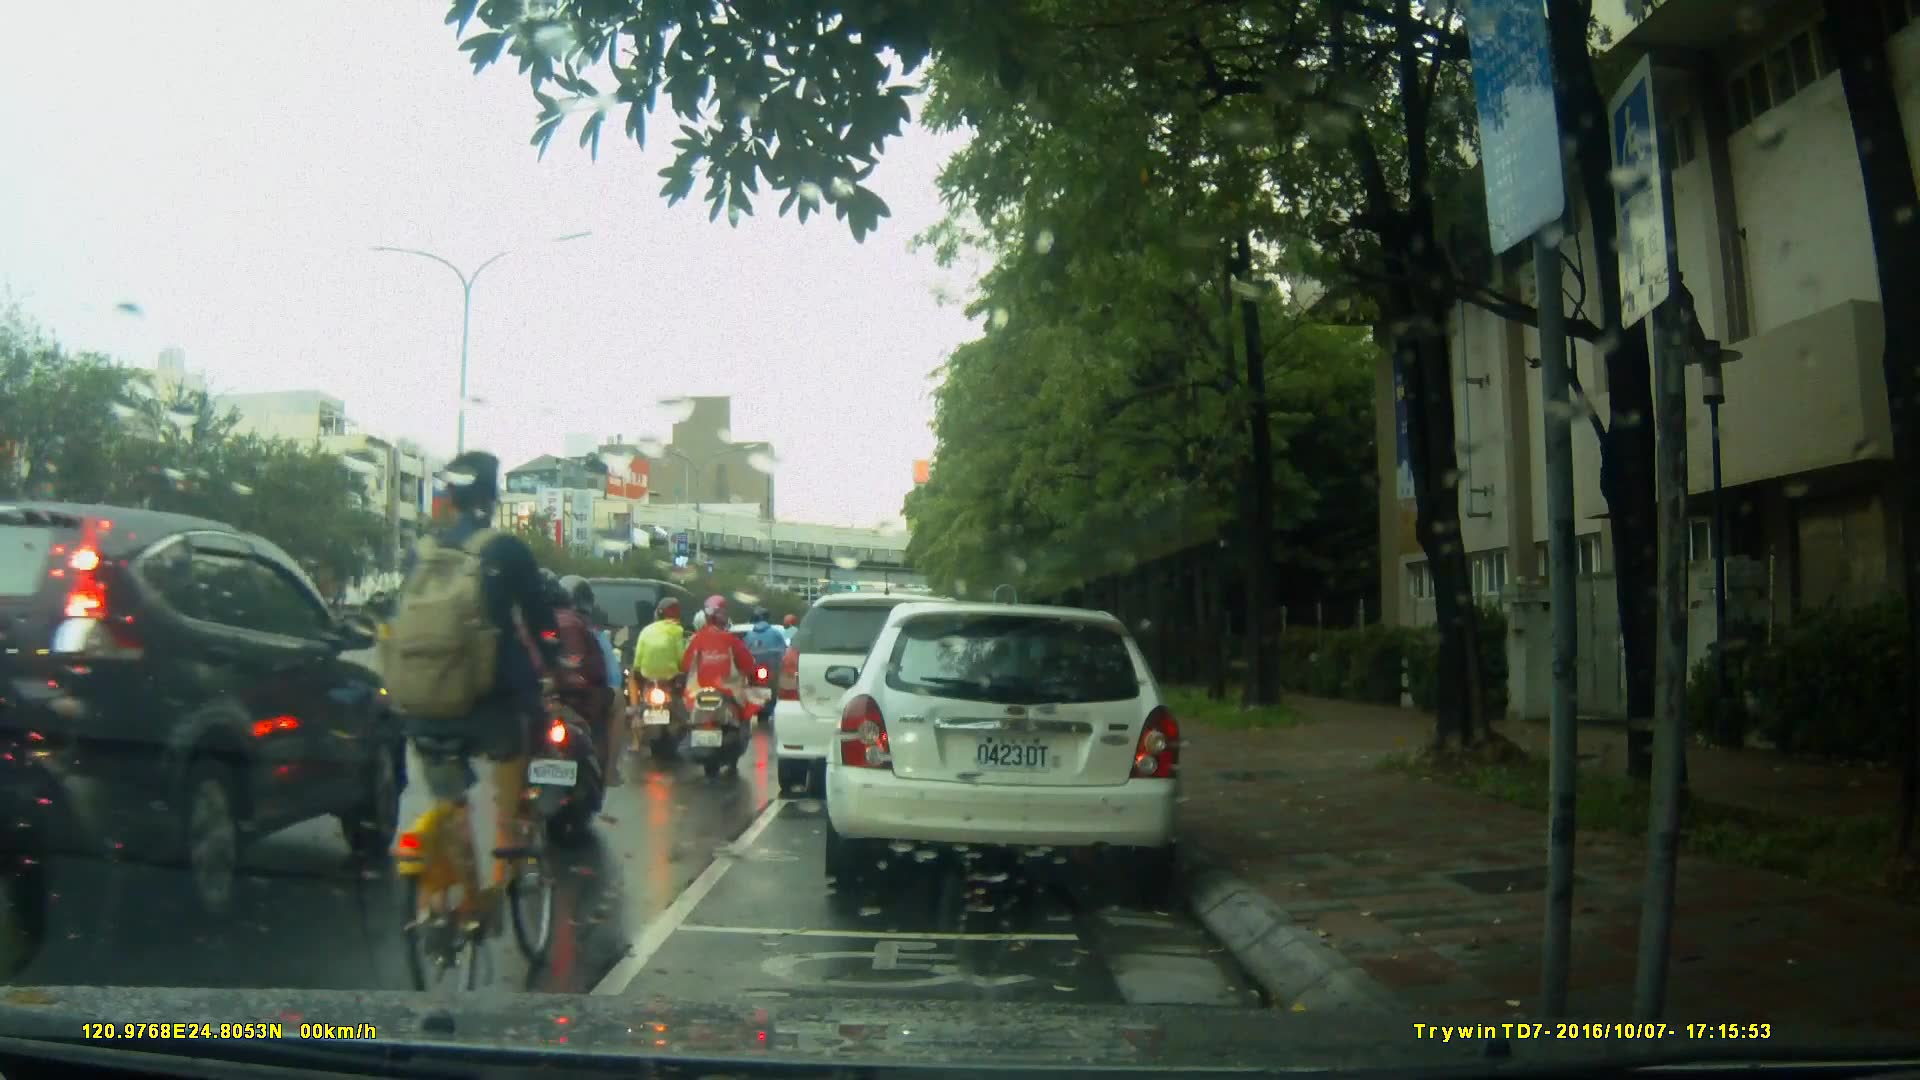rider: (385, 451, 583, 1010), (520, 572, 627, 842), (675, 596, 751, 779), (632, 600, 705, 760), (674, 603, 742, 729), (461, 601, 527, 732), (744, 599, 795, 728)
vehicle: (2, 503, 408, 941), (822, 604, 1188, 883), (774, 595, 995, 802), (307, 610, 517, 727)
